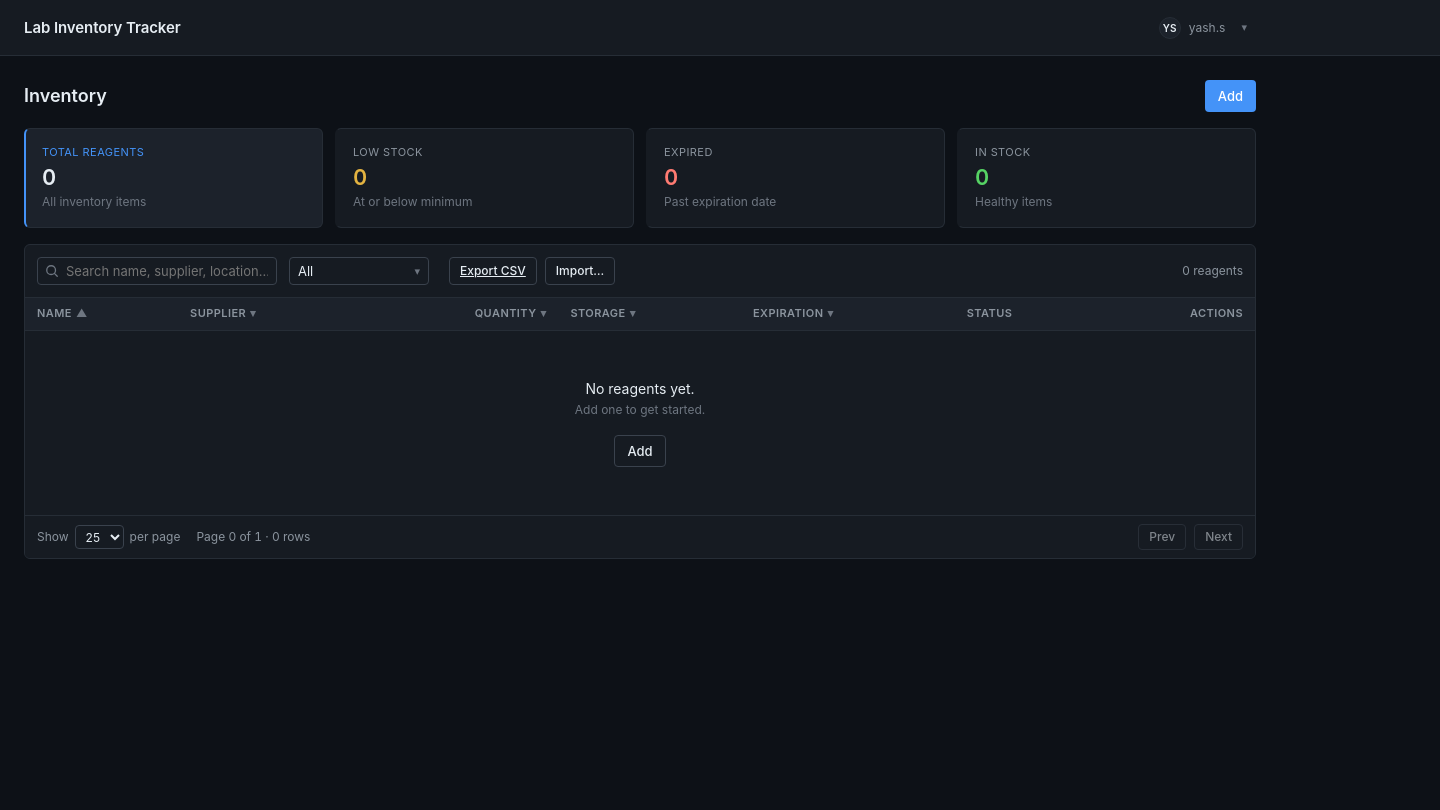
Test case: Auth flow › signs out via the user-chip menu and returns to the login gate
Expected: the heading "Inventory" is shown, [24, 83, 107, 109]
What coordinates should you click on to do the following:
click the button "YS yash.s ▾"
I would click on:
 (1203, 28)
Its box is [1150, 12, 1256, 44].
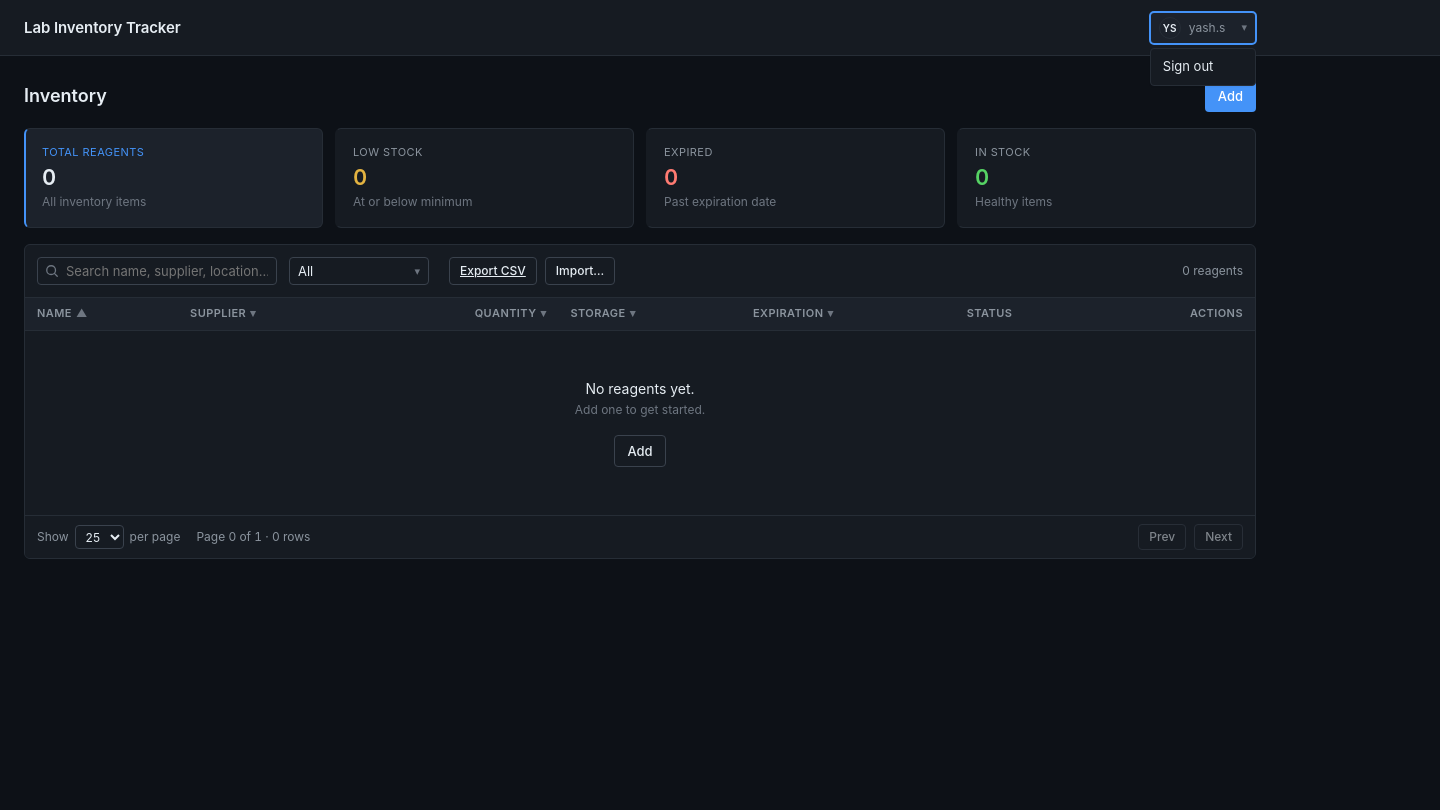
What coordinates should you click on to do the following:
click the menu item "Sign out"
I would click on:
 (1188, 66)
Its box is [1163, 58, 1213, 74].
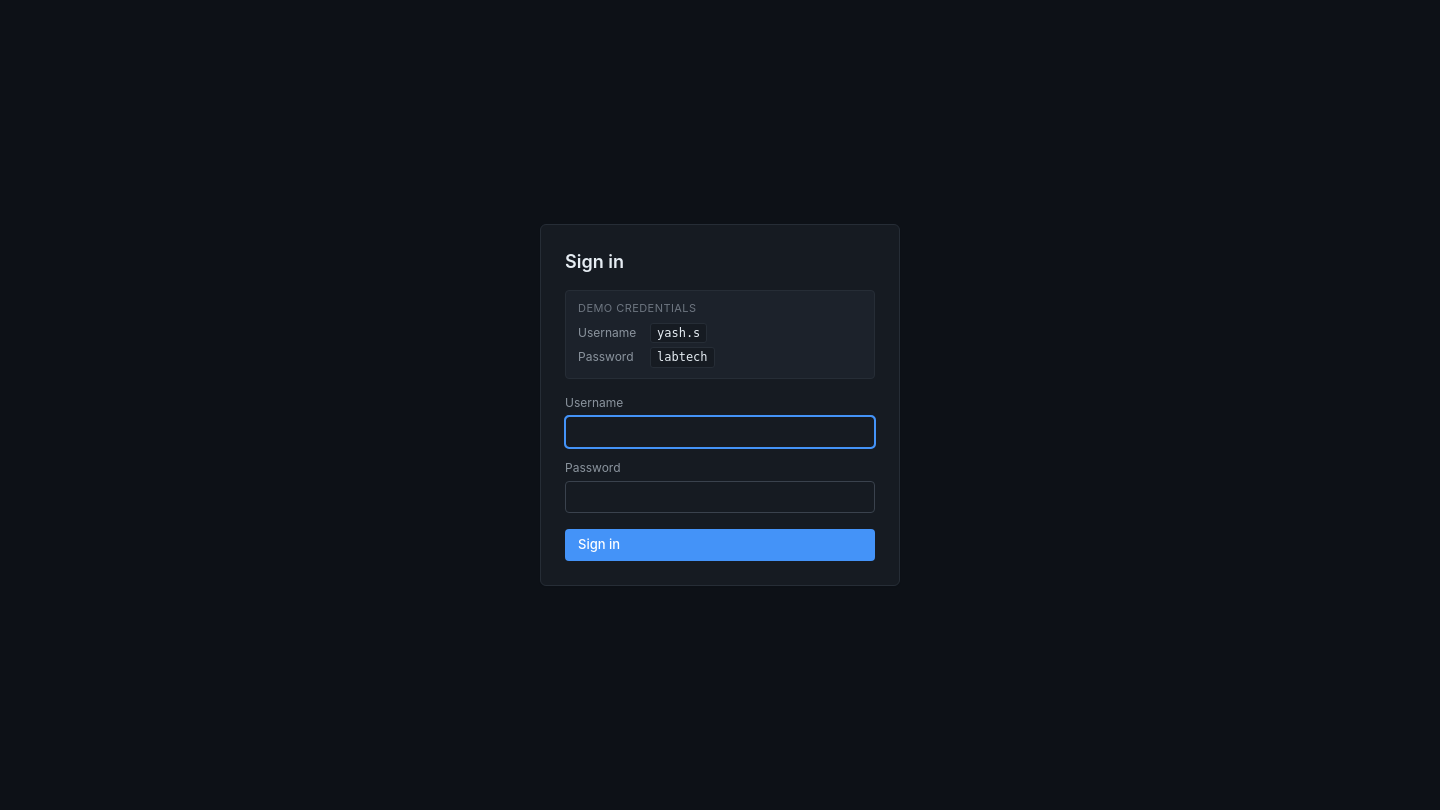
Result: the heading "Sign in" is shown at [565, 249, 624, 274]
